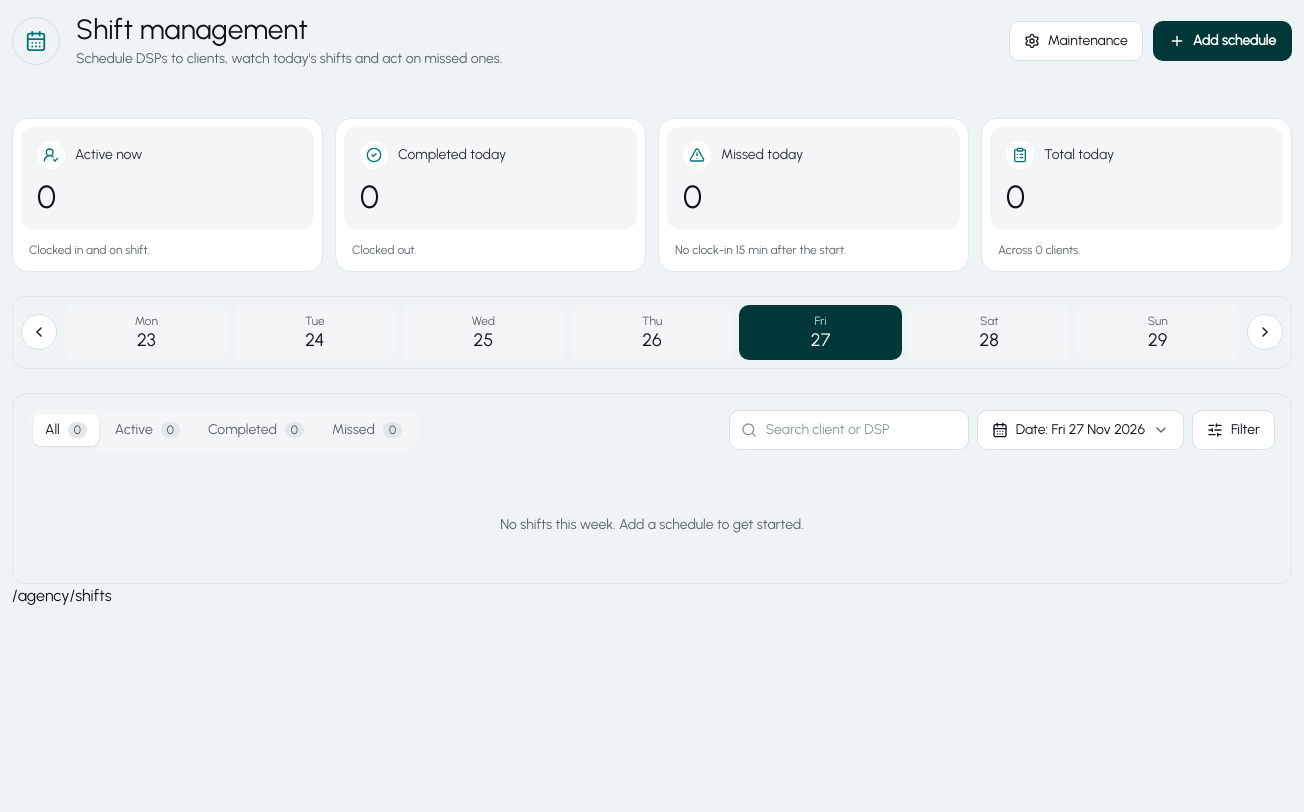
it: shared operational shift pages › uses the operational maintenance route only when that capability is present
Later steps or results of the test are not shown.
Expected: the text "No shifts this week. Add a schedule to get started." is shown, x1=500 y1=514 x2=804 y2=534
Click the button named "Open shift maintenance: review problem shifts and activity history".
click(1076, 40)  # box x1=1009 y1=20 x2=1143 y2=60
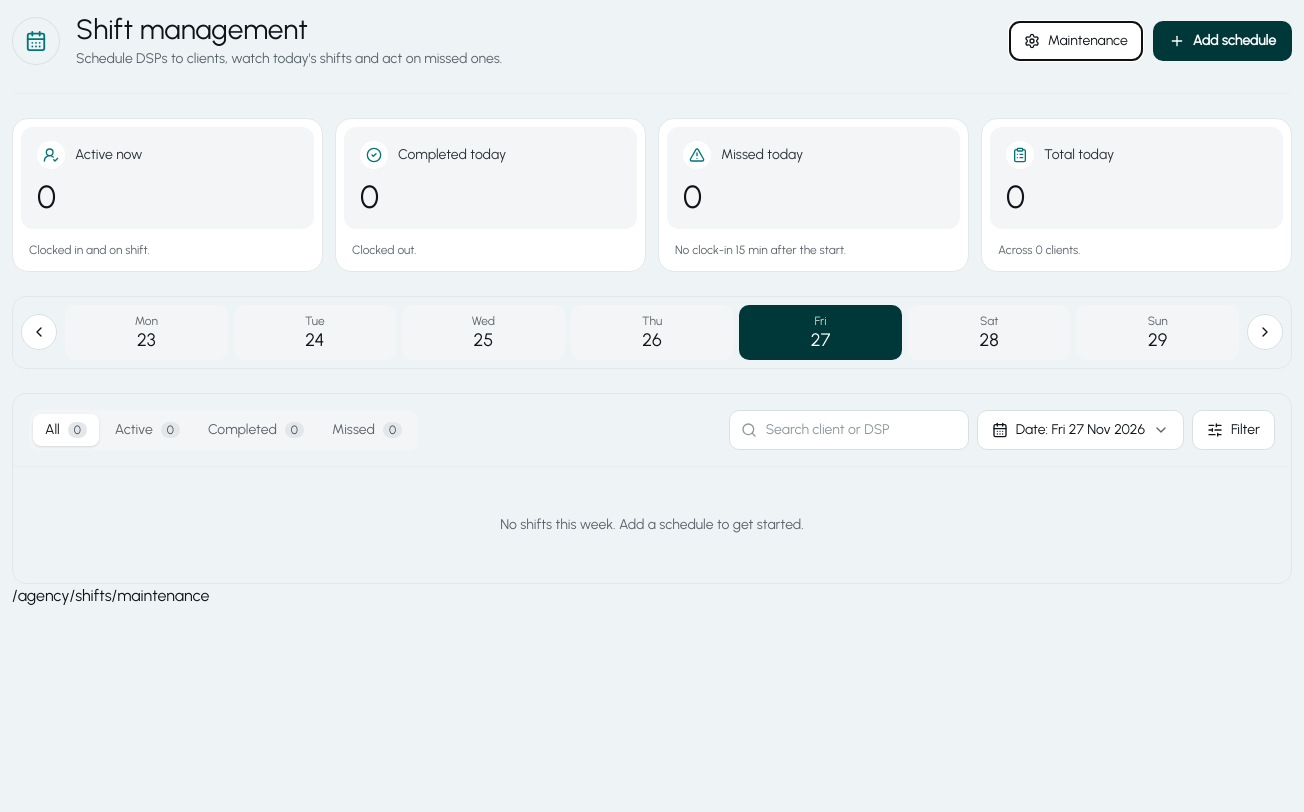
Now the text named "Current route" reads "/agency/shifts/maintenance", box x1=12 y1=586 x2=209 y2=604
